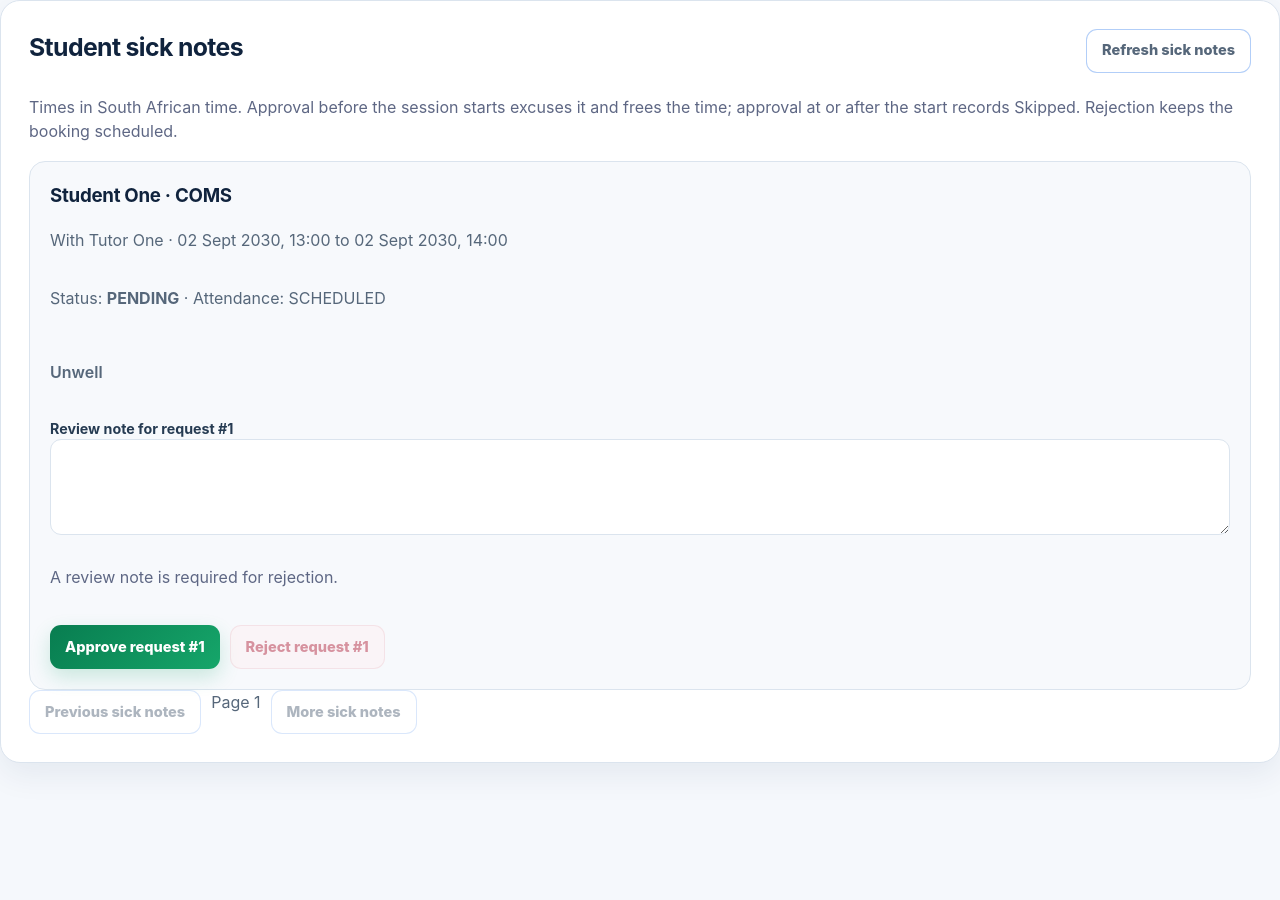
fails closed if refreshing after a conflict fails
The width and height of the screenshot is (1280, 900).
Click the button "Approve request #1" at [135, 647], box [50,625,220,669]
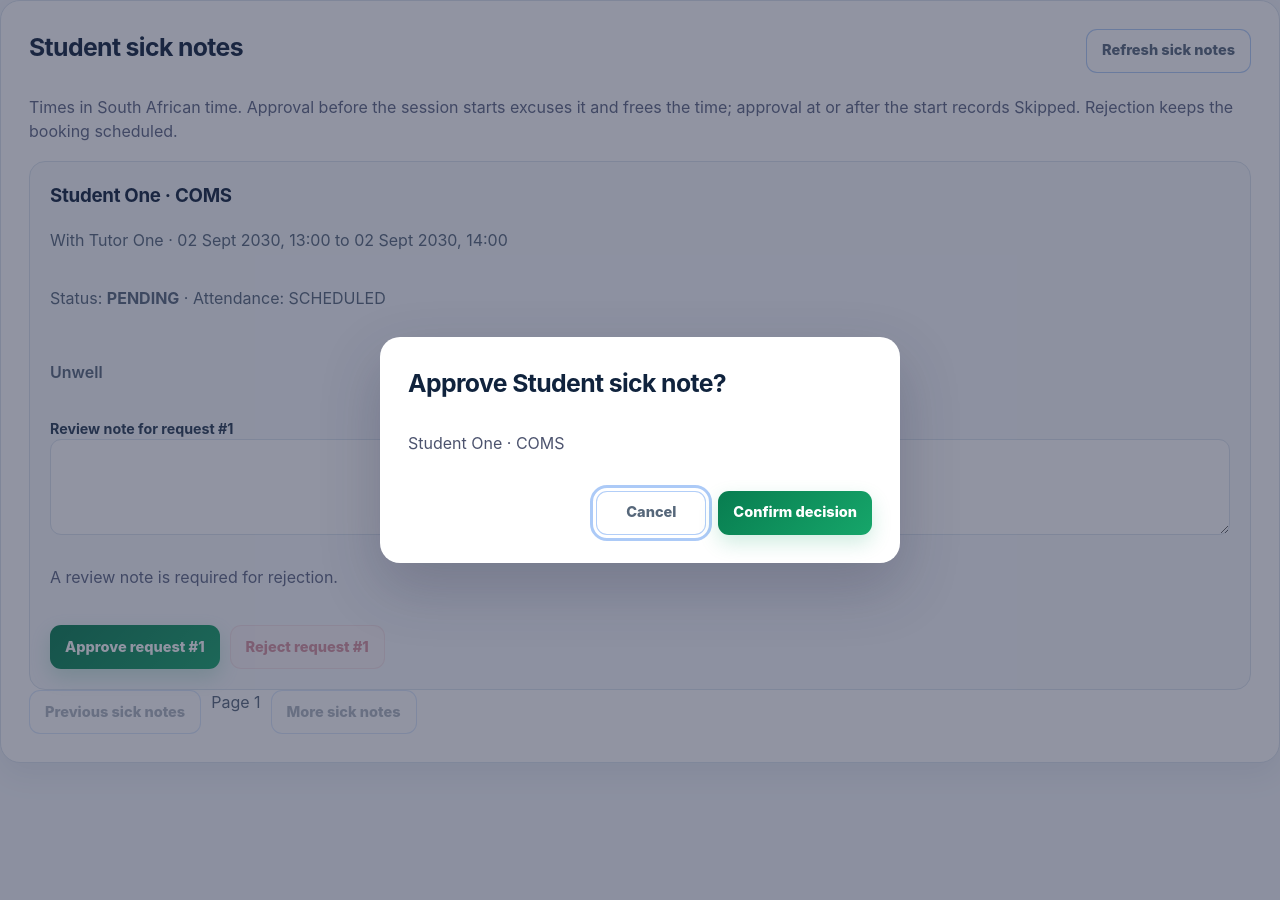
Click the button "Confirm decision" at [795, 513], box [718,491,872,535]
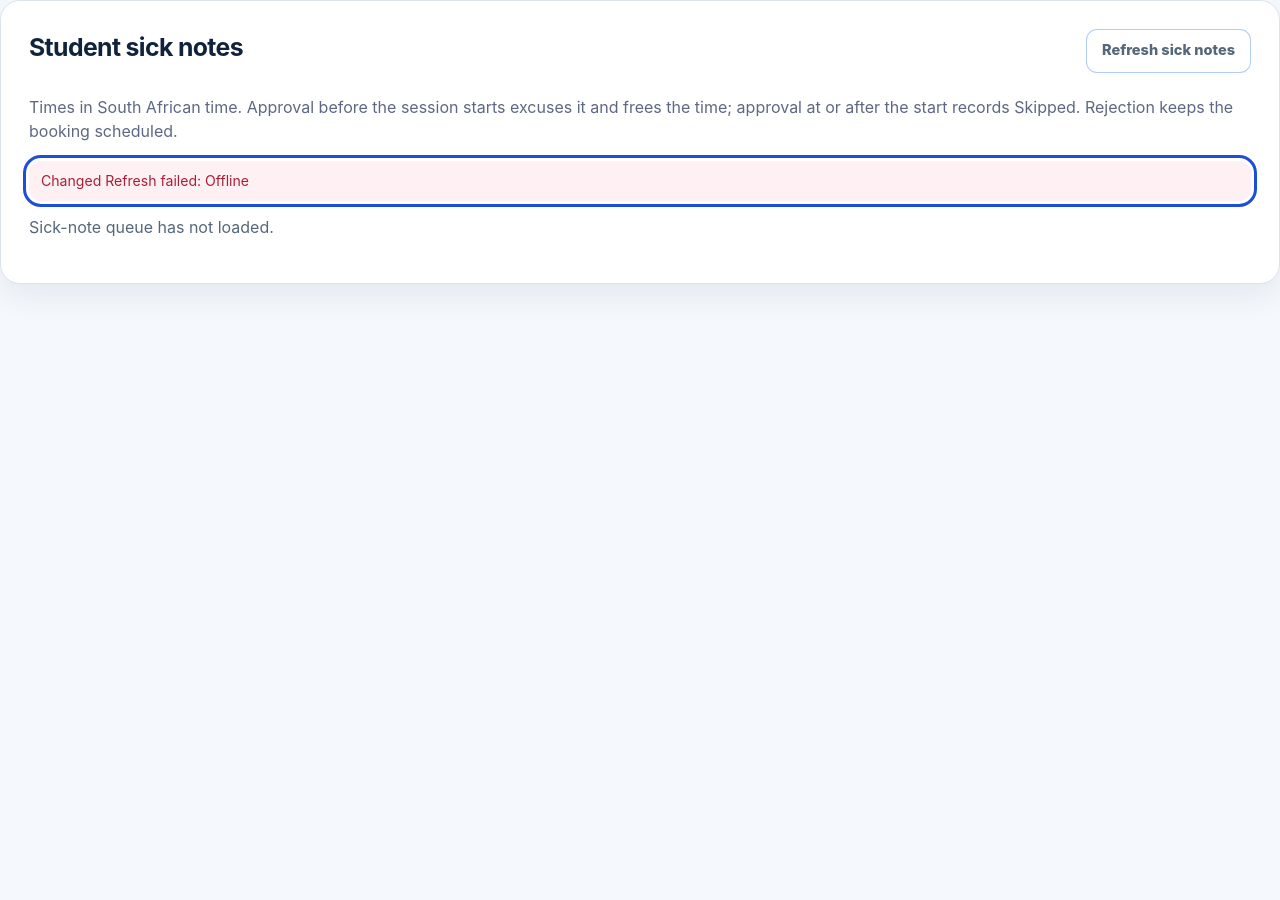
Check: the message "Changed Refresh failed: Offline" is shown, box [29,161,1251,201]
Check: the button "Approve request #1" is gone
